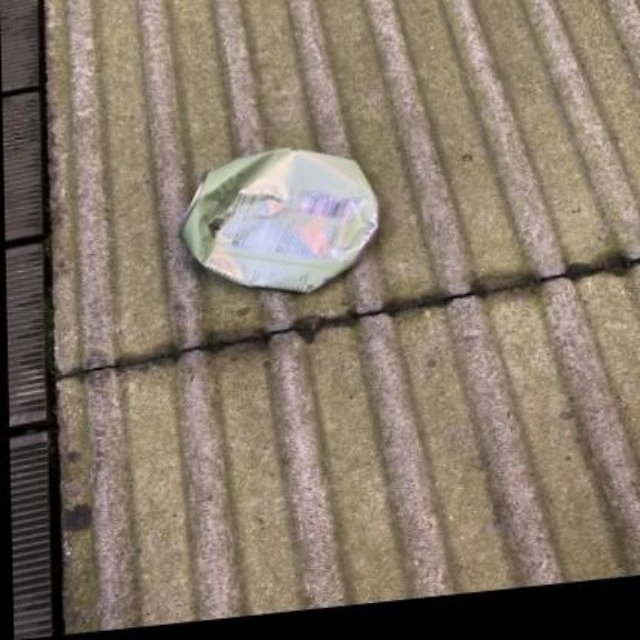trash: (183, 148, 377, 291)
